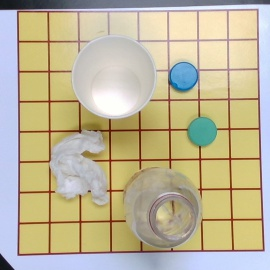blue: (169, 60, 197, 91)
bottle: (122, 164, 202, 249)
cup: (72, 34, 156, 121)
green: (188, 118, 218, 147)
